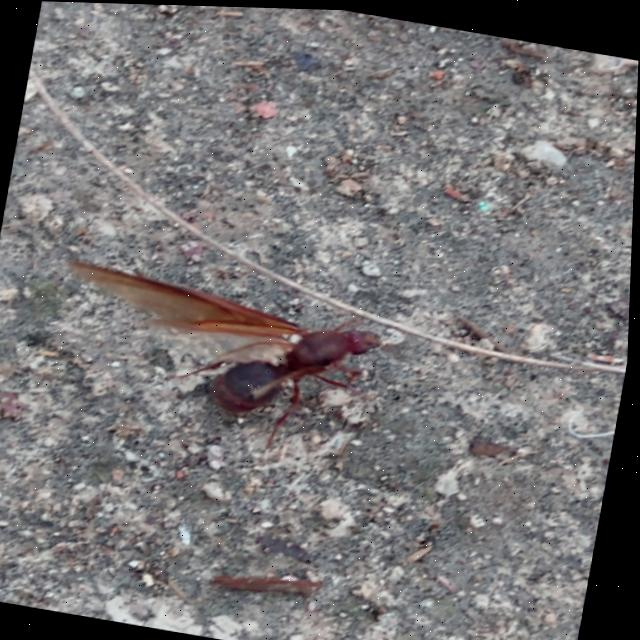Alive-Female-Alate: (45, 255, 422, 469)
